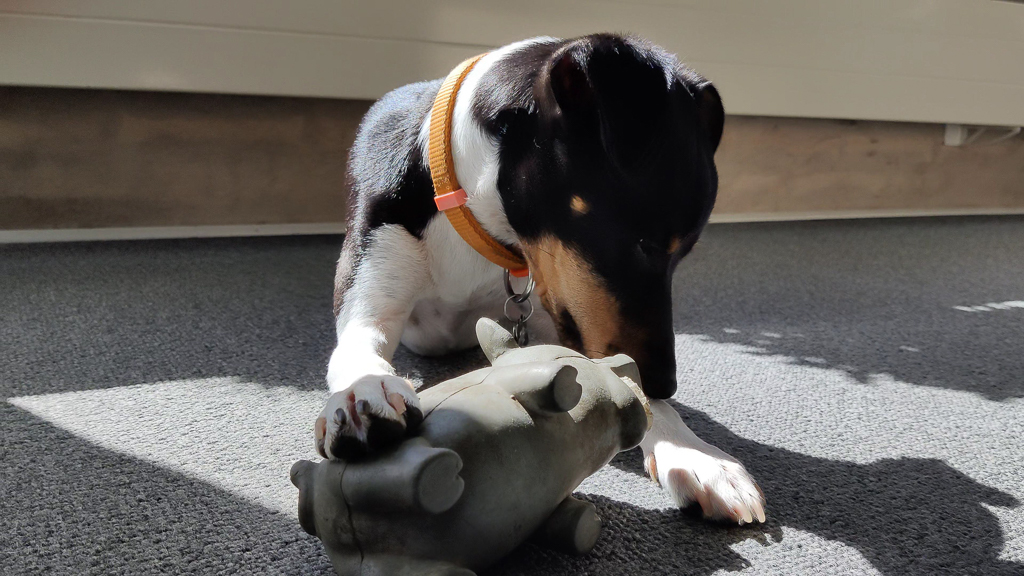Dog: (286, 19, 798, 547)
